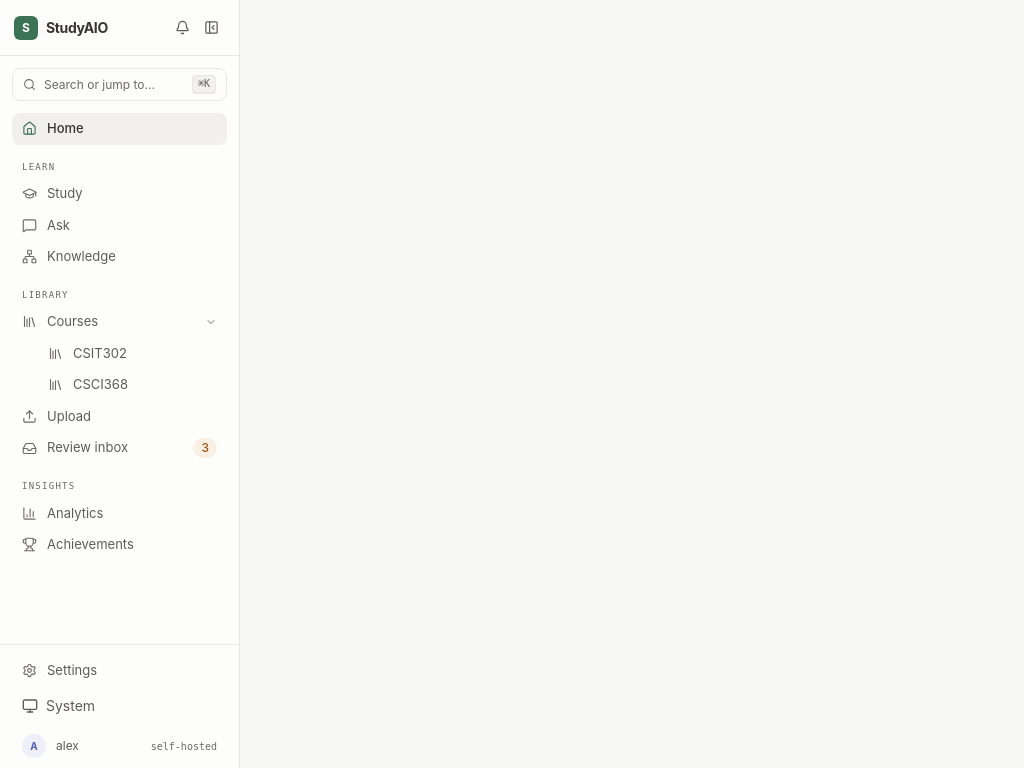
Test case: Sidebar › opens the notification center from the bell button
This screenshot has width=1024, height=768.
Click the button named "notifications".
click(182, 28)  # box [169,14,196,41]
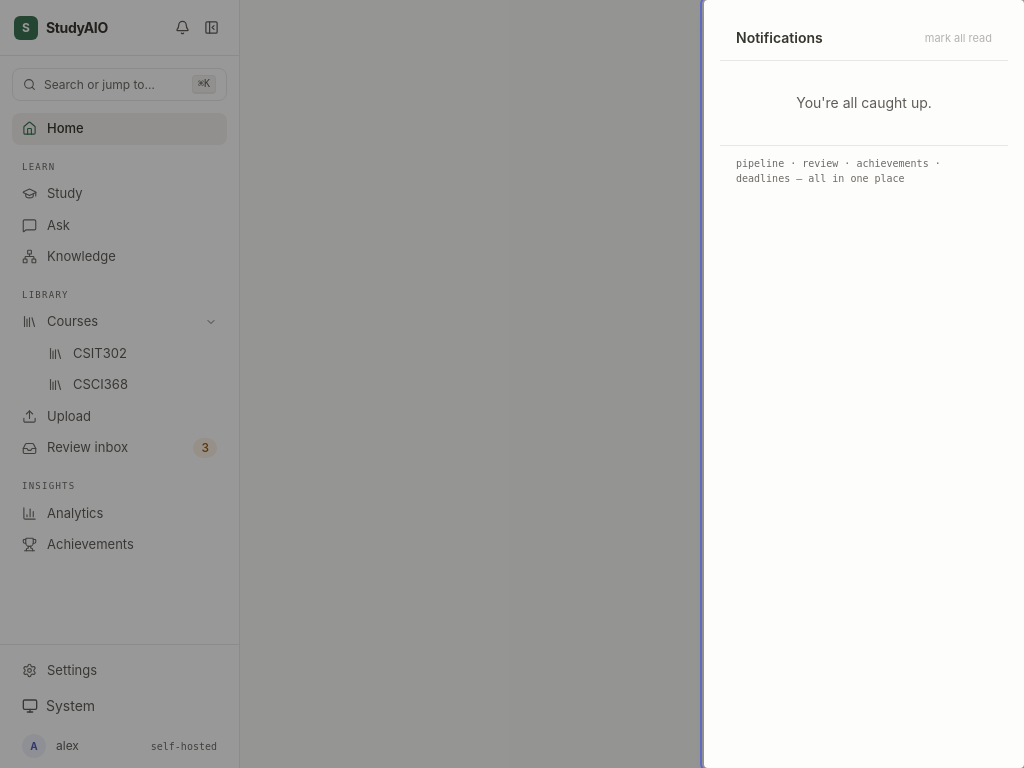
Expected: the text "You're all caught up." is shown, [796,94,932,111]
Expected: the button "mark all read" is disabled, [925,30,992,46]
